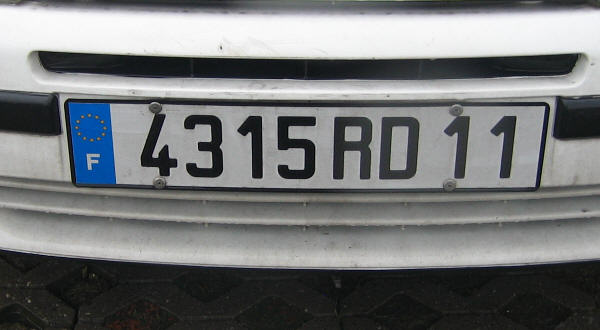license_plate: (63, 96, 552, 191)
